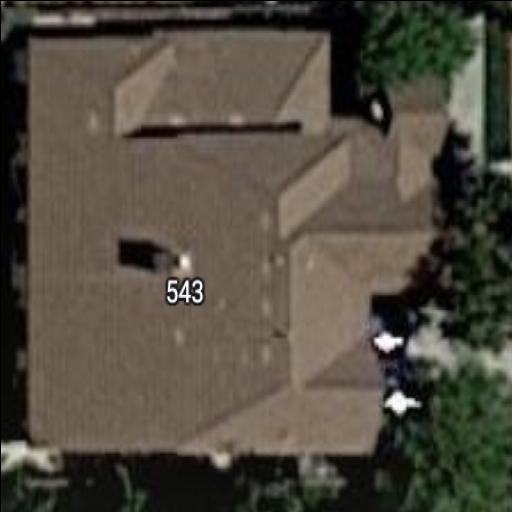TreeShading-Slope-Roof: (29, 34, 446, 454)
